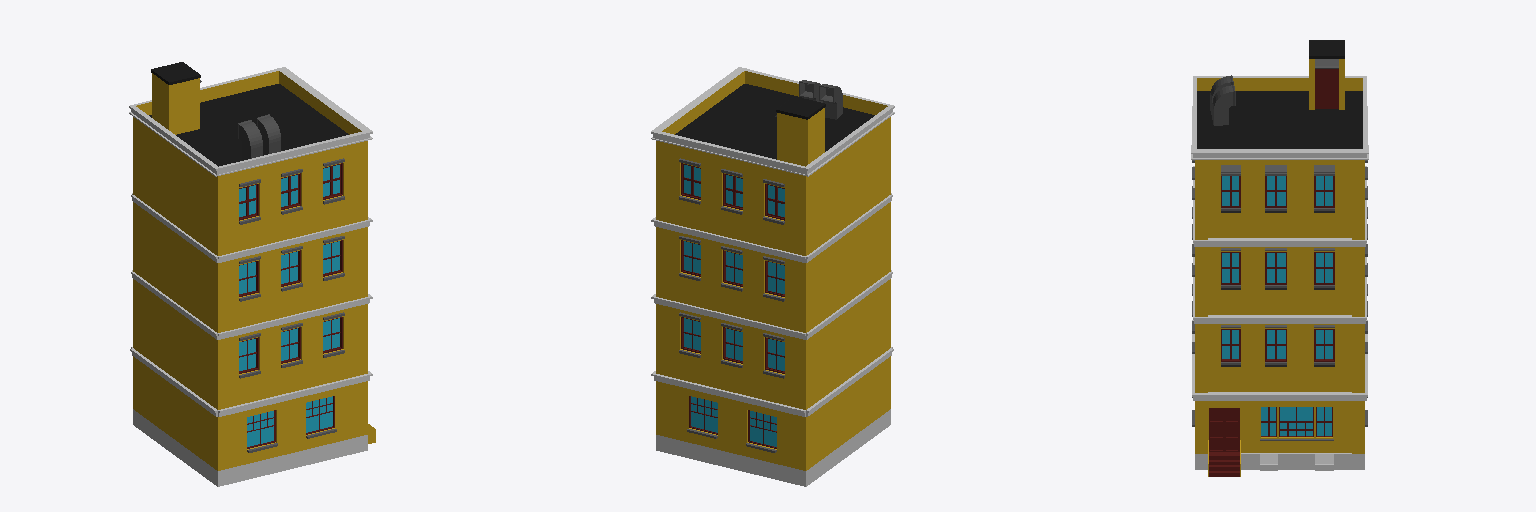
The model's file is edificio.obj.
3 renders of one model, left to right at view 1: azimuth 30°, elevation 25°; view 2: azimuth 150°, elevation 25°; view 3: azimuth 270°, elevation 25°, orthographic.
Visible parts, largest first — view 1: Cube.001, Cube.004, Cube; view 2: Cube.001, Cube.004, Cube; view 3: Cube.004, Cube.001, Cube, Cube.002.
Part boxes in pixels (x1,y1,x2,y2): Cube.001: (131,193,372,409); Cube.004: (129,62,372,255); Cube: (130,347,372,486); Cube.001: (651,193,892,409); Cube.004: (651,67,894,255); Cube: (651,347,893,486); Cube.004: (1191,40,1368,239); Cube.001: (1192,166,1367,392); Cube: (1192,320,1367,470); Cube.002: (1208,440,1240,476).
Bounding box in the file's own units: 2.28 × 4.69 × 2.09.